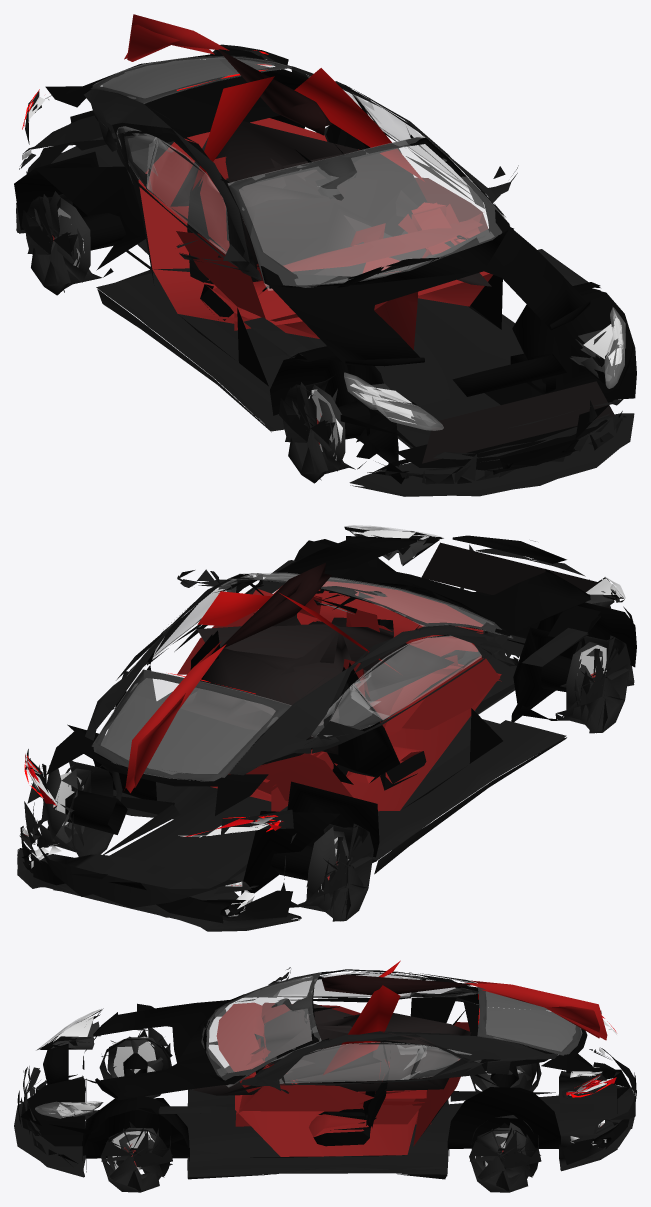
3 views of the same model, one above another, from view 1: azimuth 30°, elevation 25°; view 2: azimuth 150°, elevation 25°; view 3: azimuth 270°, elevation 25° (orthographic). The views are drawn at different scales.
Visible parts, largest first — view 1: black_windshield_mask.001_0, glassDark_windshield.001_7, plasticGlossyB_undercarriage.001_21, body_26, interiorB_.001_14, interiorA_shell.001_13, plasticGlossy_headlight_lens_.001_20, carpaintB_roof_pillars.001_1, plastic_grill_inner.001_16, rimDark_00.005_49, rimDark_00.006_37, glassClear_headlights_shell.001_5 (+7 smaller); view 2: black_windshield_mask.001_0, plasticGlossyB_undercarriage.001_21, glassDark_windshield.001_7, body_26, interiorB_.001_14, interiorA_shell.001_13, carpaintB_roof_pillars.001_1, plasticGlossy_headlight_lens_.001_20, rimDark_00.005_49, rimDark_00.006_37, plasticDots_bumper_r.001_19, rimDark_00.007_43 (+8 smaller); view 3: black_windshield_mask.001_0, glassDark_windshield.001_7, plasticGlossyB_undercarriage.001_21, body_26, interiorB_.001_14, interiorA_shell.001_13, carpaintB_roof_pillars.001_1, plastic_grill_inner.001_16, rimDark_00.007_43, rimDark_00.008_31, plasticGlossy_headlight_lens_.001_20, plasticDots_bumper_r.001_19 (+13 smaller).
Part boxes in pixels (bbox=[...]): black_windshield_mask.001_0: bbox=[14, 47, 636, 466]; glassDark_windshield.001_7: bbox=[91, 56, 510, 290]; plasticGlossyB_undercarriage.001_21: bbox=[16, 115, 634, 496]; body_26: bbox=[124, 14, 491, 286]; interiorB_.001_14: bbox=[138, 118, 492, 349]; interiorA_shell.001_13: bbox=[102, 58, 502, 386]; plasticGlossy_headlight_lens_.001_20: bbox=[25, 44, 626, 484]; carpaintB_roof_pillars.001_1: bbox=[84, 55, 517, 280]; plastic_grill_inner.001_16: bbox=[26, 110, 632, 483]; rimDark_00.005_49: bbox=[21, 194, 113, 295]; rimDark_00.006_37: bbox=[279, 374, 366, 483]; glassClear_headlights_shell.001_5: bbox=[344, 307, 625, 430]; black_windshield_mask.001_0: bbox=[46, 535, 636, 894]; plasticGlossyB_undercarriage.001_21: bbox=[17, 630, 634, 931]; glassDark_windshield.001_7: bbox=[92, 573, 512, 781]; body_26: bbox=[124, 562, 465, 793]; interiorB_.001_14: bbox=[177, 581, 501, 811]; interiorA_shell.001_13: bbox=[101, 574, 502, 808]; carpaintB_roof_pillars.001_1: bbox=[85, 574, 519, 775]; plasticGlossy_headlight_lens_.001_20: bbox=[25, 542, 614, 836]; rimDark_00.005_49: bbox=[281, 823, 373, 921]; rimDark_00.006_37: bbox=[549, 635, 630, 733]; plasticDots_bumper_r.001_19: bbox=[20, 826, 292, 923]; rimDark_00.007_43: bbox=[24, 760, 122, 856]; black_windshield_mask.001_0: bbox=[43, 973, 601, 1161]; glassDark_windshield.001_7: bbox=[201, 972, 581, 1087]; plasticGlossyB_undercarriage.001_21: bbox=[14, 1047, 635, 1179]; body_26: bbox=[193, 960, 607, 1095]; interiorB_.001_14: bbox=[216, 1002, 469, 1156]; interiorA_shell.001_13: bbox=[235, 973, 574, 1157]; carpaintB_roof_pillars.001_1: bbox=[238, 969, 558, 1093]; plastic_grill_inner.001_16: bbox=[17, 1003, 636, 1163]; rimDark_00.007_43: bbox=[469, 1115, 541, 1192]; rimDark_00.008_31: bbox=[100, 1127, 172, 1192]; plasticGlossy_headlight_lens_.001_20: bbox=[23, 967, 619, 1166]; plasticDots_bumper_r.001_19: bbox=[562, 1054, 630, 1164].
Size of what is drawn, in the model's own units: 2.14 by 1.4 by 4.7.
23 materials, 1 textured.
